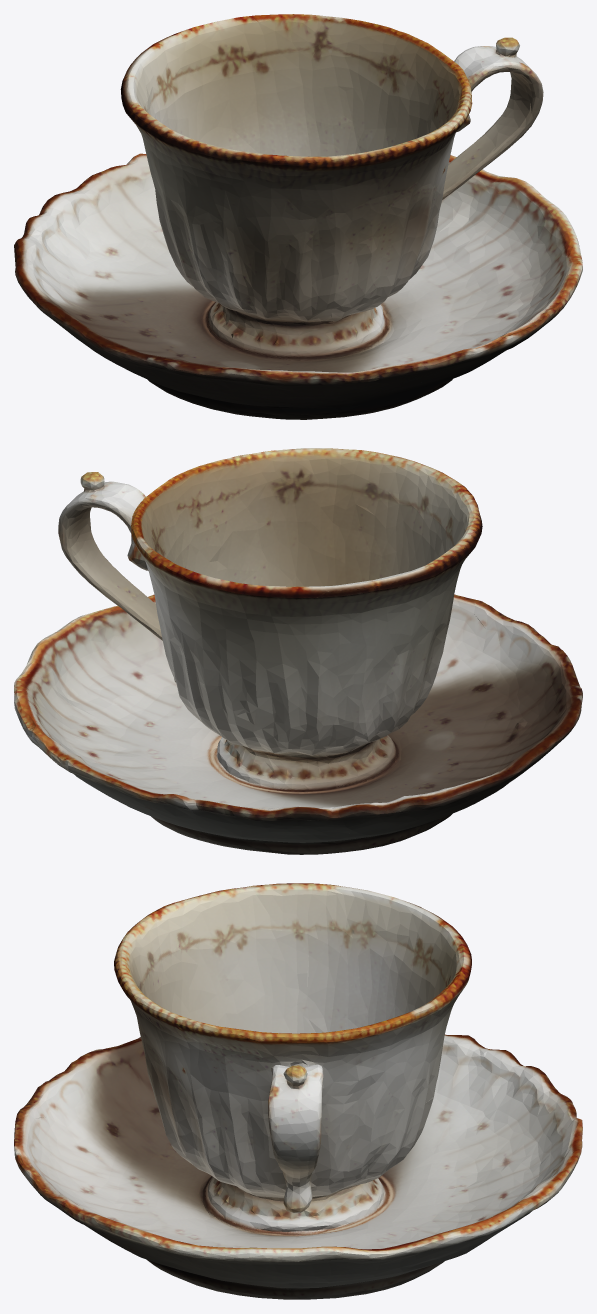
The model's file is porcelain-cup-and-saucer-used-rustic-worn.jpeg.glb.
The picture shows the model from 3 angles, top to bottom: view 1: azimuth 30°, elevation 25°; view 2: azimuth 150°, elevation 25°; view 3: azimuth 270°, elevation 25°; orthographic projection.
Visible parts, largest first — view 1: world; view 2: world; view 3: world.
Boxes of the visible parts, left/top/right/bottom form: world: left=14, top=14, right=582, bottom=419; world: left=14, top=448, right=582, bottom=854; world: left=14, top=883, right=582, bottom=1299.
Size of the model in its own units: 0.9993 by 0.5371 by 1.
1 material, 1 textured.
